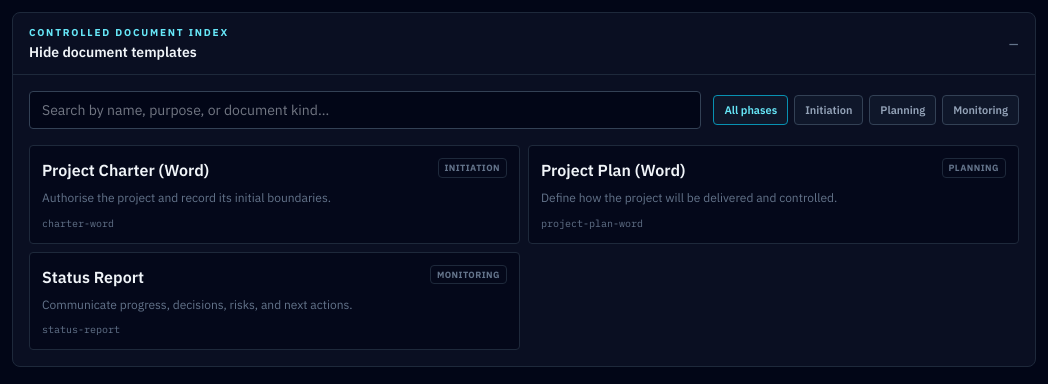
it: document catalog › searches document purpose and reports an empty result
This screenshot has width=1048, height=384.
Type "boundaries" into the search field named "search document templates".
click(365, 110); type("boundaries")  # box top-left (29, 91), bottom-right (701, 129)
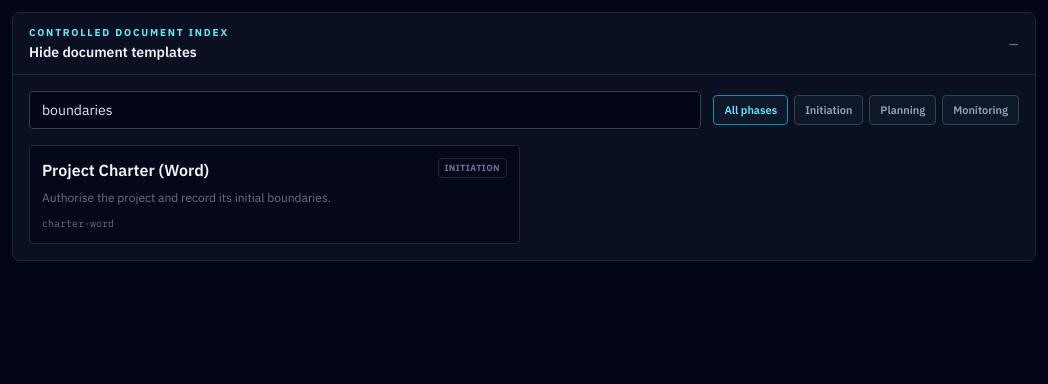
Expected: the button "Project Charter" is shown, top-left (29, 145), bottom-right (520, 244)
Result: the button "Status Report" is gone
Replace the text in the search field named "search document templates" with "earned value" at (365,110), box top-left (29, 91), bottom-right (701, 129)
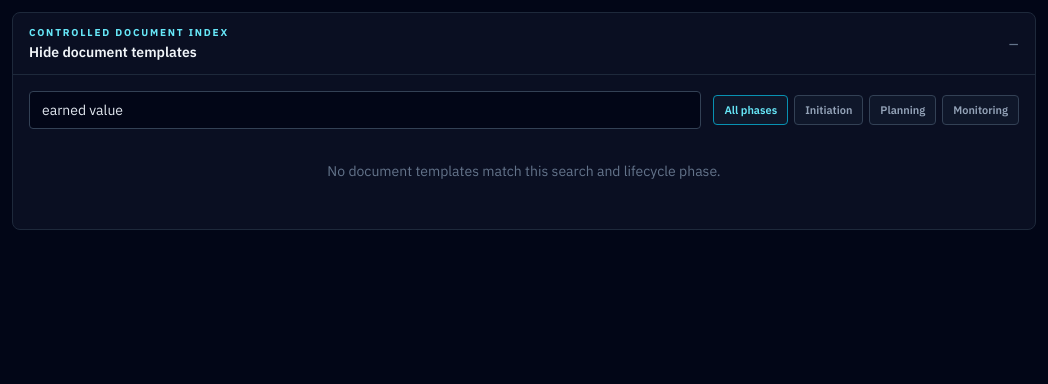
Result: the message shows "No document templates match" at top-left (327, 162), bottom-right (721, 180)
